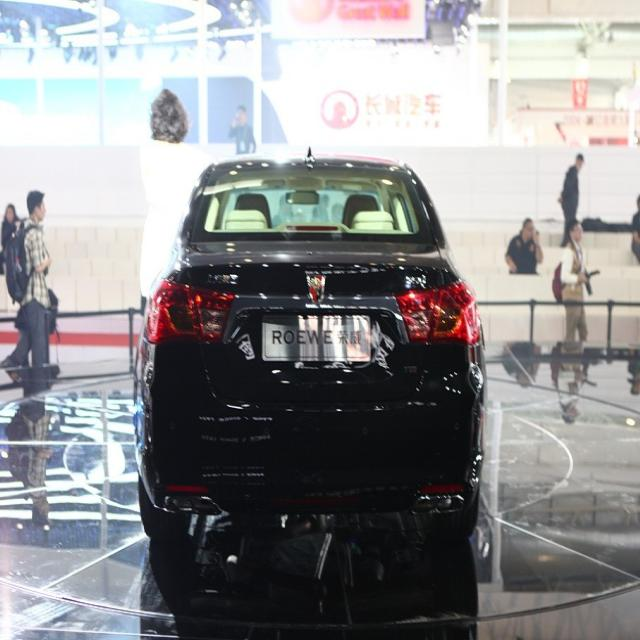back_glass: (201, 158, 425, 245)
back_left_side_light: (144, 272, 233, 350)
back_right_side_light: (398, 278, 482, 353)
rear_bumper: (133, 378, 484, 535)
